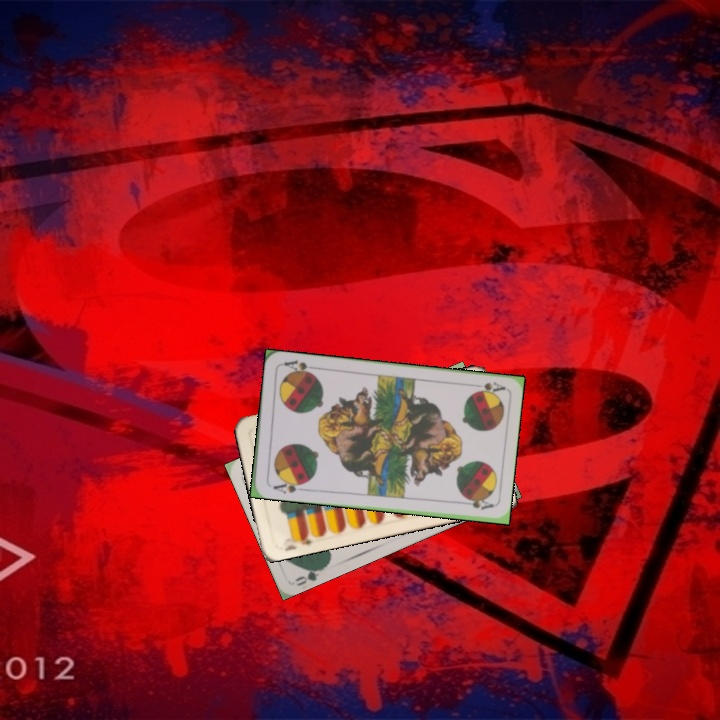E10: (295, 529, 316, 547)
GO: (291, 562, 328, 589)
SA: (466, 377, 507, 397), (269, 476, 307, 496)
